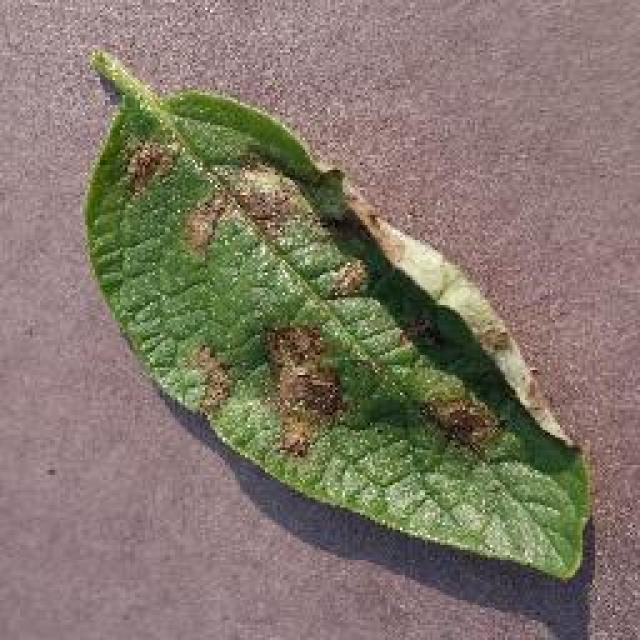Potato___Late_blight: (79, 47, 593, 588)
